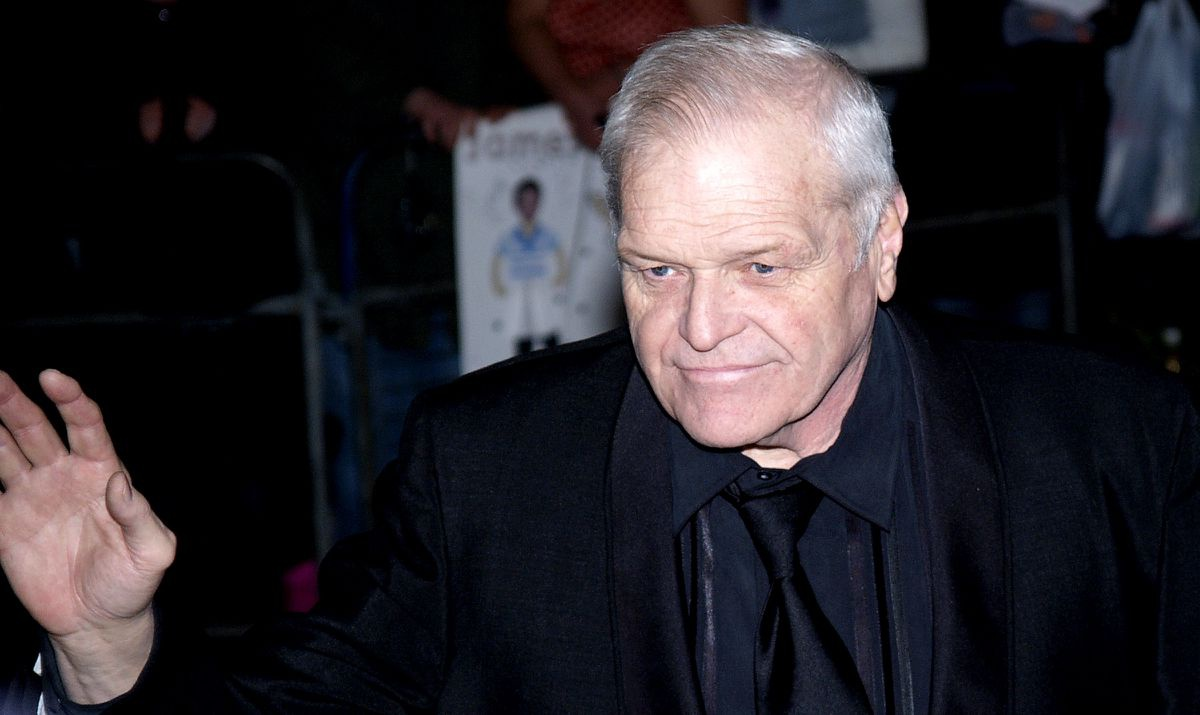bad: (587, 171, 854, 439)
